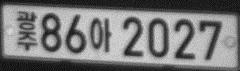0: (147, 17, 169, 58)
2: (174, 18, 196, 59), (122, 16, 144, 56)
6: (64, 13, 87, 53)
7: (199, 19, 222, 61)
8: (40, 12, 62, 51)
광주_V: (16, 9, 37, 50)
아: (89, 17, 111, 52)
